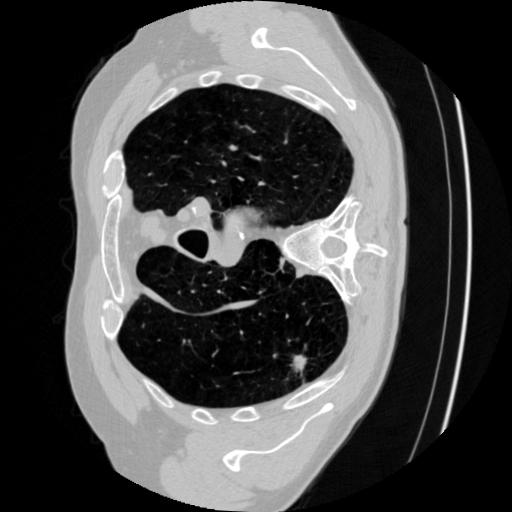nodule: (286, 352, 315, 381)
